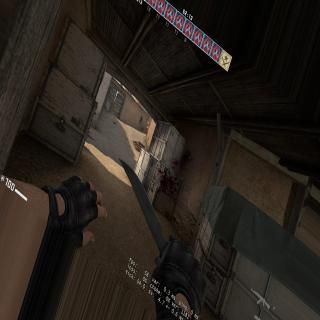CT-Body: (139, 115, 143, 126)
CT-Head: (142, 115, 142, 117)
